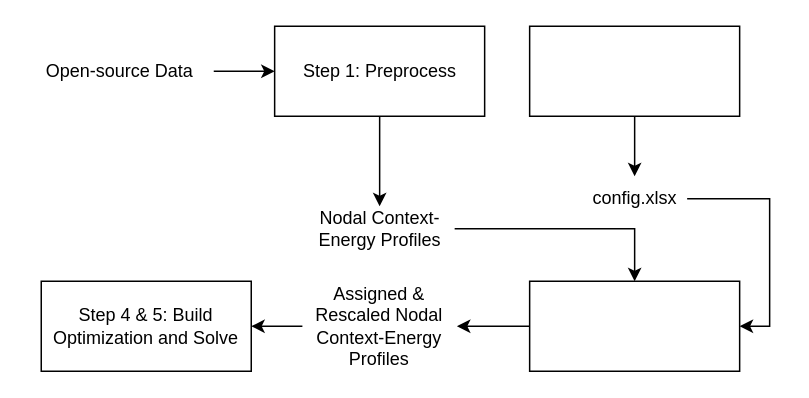
This 809x398 diagram has some shape labels left out. The shapes that lost their labels are listed below. From the top down, each one's centre as x and y in pixels, then its label:
the point at 634,70: Step 2: Construct Grid Configuration
the point at 634,325: Step 3: Construct Grid Data
